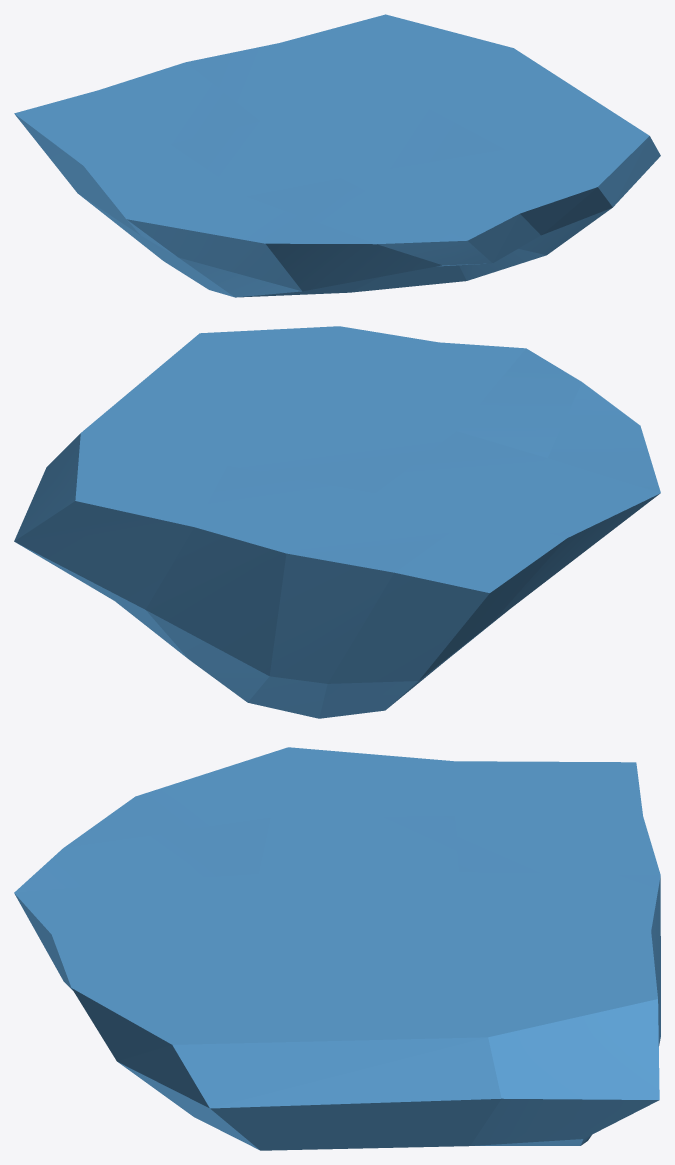
The model's file is island.glb.
The picture shows the model from 3 angles, top to bottom: view 1: azimuth 30°, elevation 25°; view 2: azimuth 150°, elevation 25°; view 3: azimuth 270°, elevation 25°; orthographic projection. The views are drawn at different scales.
Parts seen in each view (by area): view 1: ground2; view 2: ground2; view 3: ground2.
Part boxes in pixels (x1=…): ground2: x1=14, y1=14, x2=660, y2=297; ground2: x1=14, y1=326, x2=660, y2=718; ground2: x1=14, y1=747, x2=660, y2=1150.
Size of the model in its own units: 4.9 by 1.74 by 4.27.
